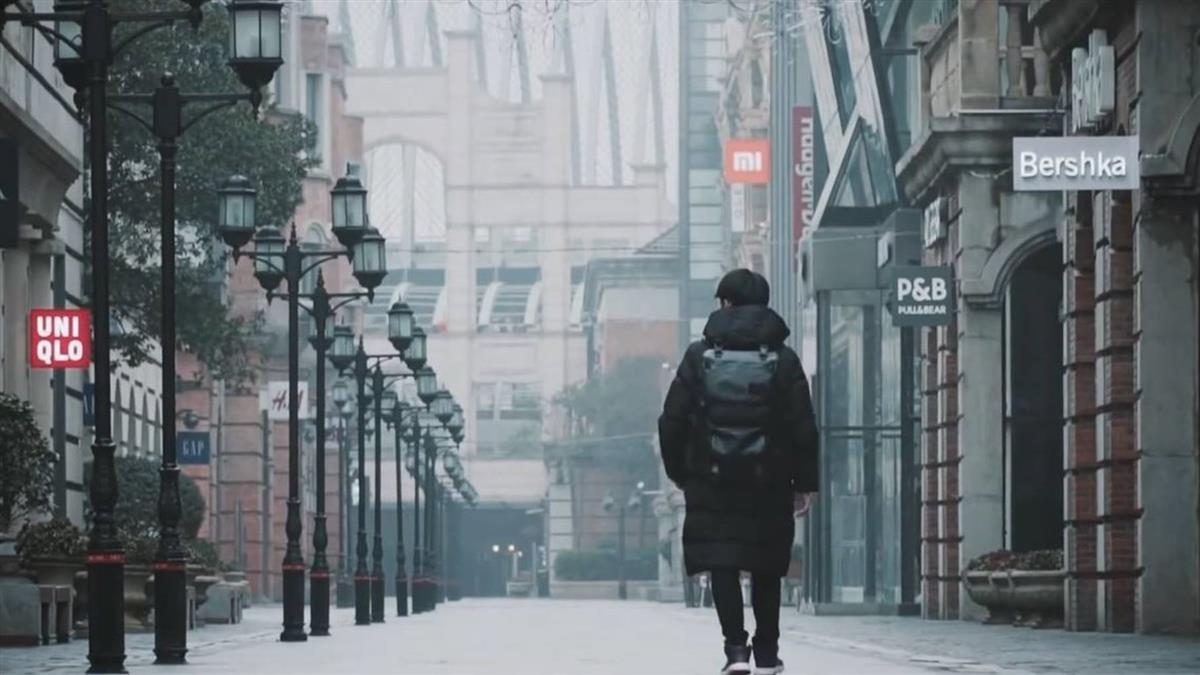person: (642, 260, 837, 675)
